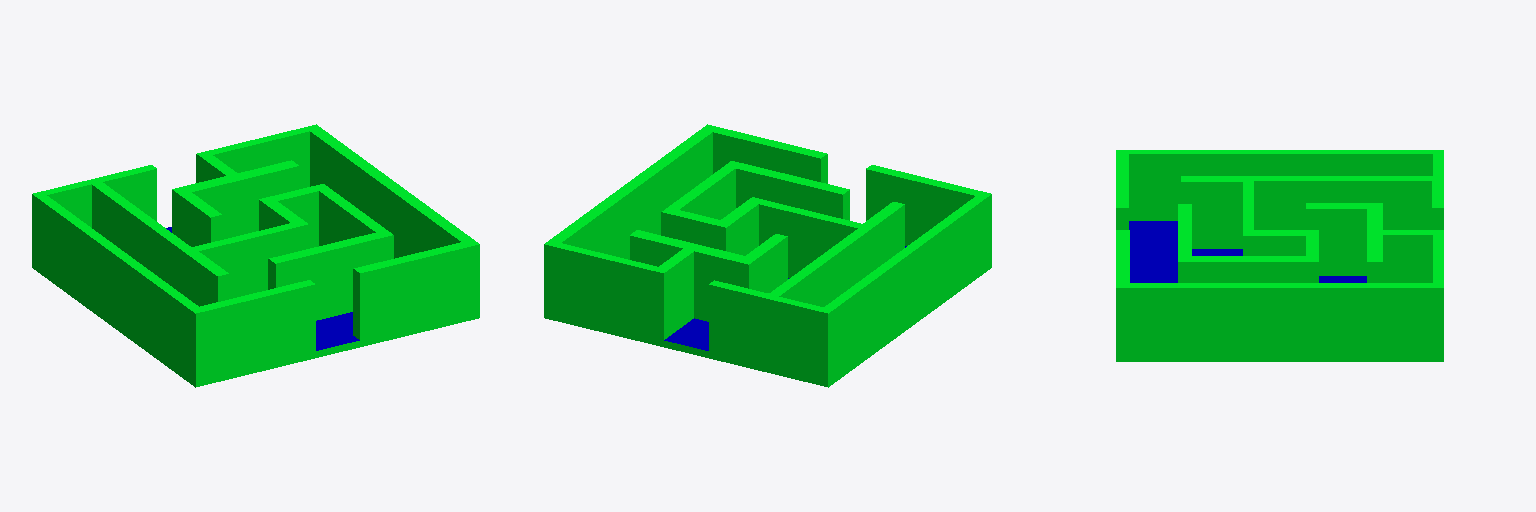
The model's file is maze.obj.
3 views of the same model, side by side, from view 1: azimuth 30°, elevation 25°; view 2: azimuth 150°, elevation 25°; view 3: azimuth 270°, elevation 25° (orthographic).
Visible parts, largest first — view 1: Cube; view 2: Cube; view 3: Cube.
Part boxes in pixels (x1,y1,x2,y2): Cube: (32, 124, 479, 387); Cube: (544, 124, 991, 387); Cube: (1116, 150, 1443, 361).
Bounding box in the file's own units: 3.1 × 0.7689 × 3.09.